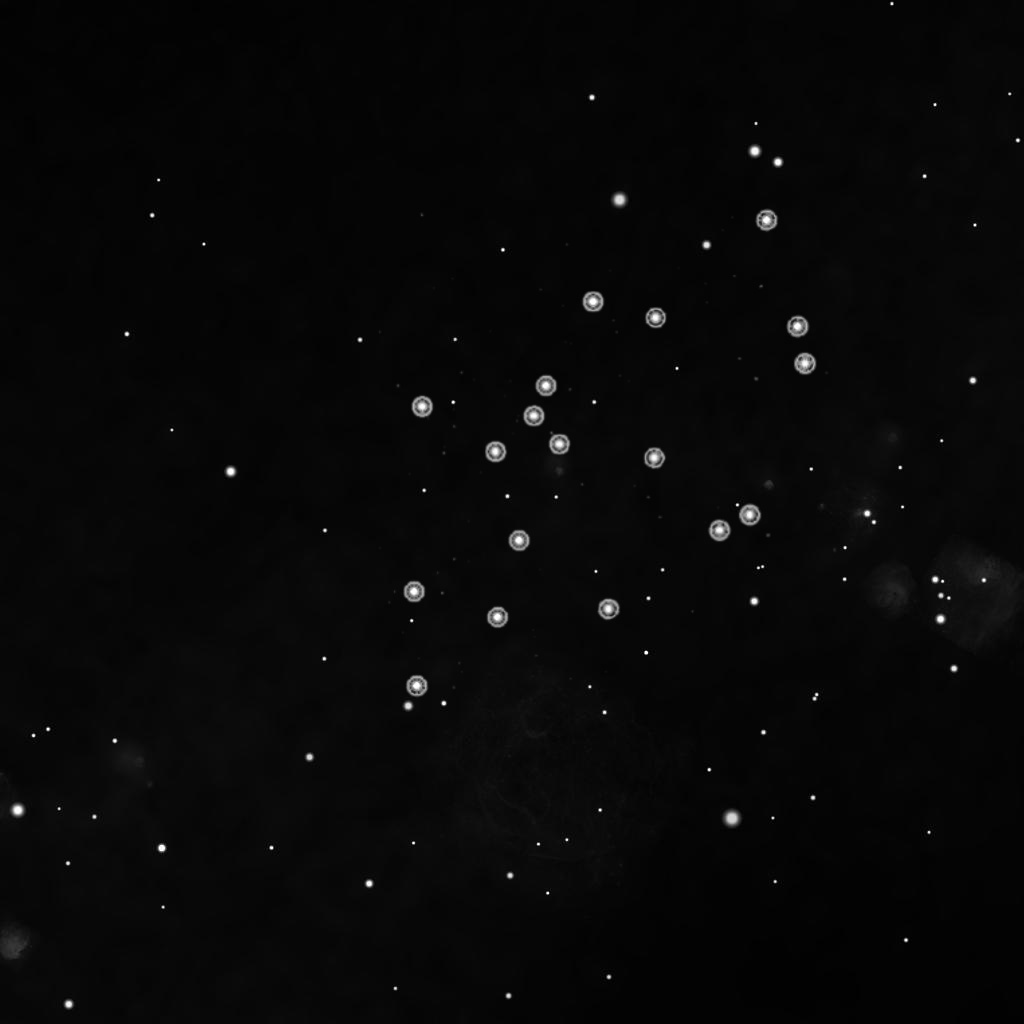canis_major: (479, 287, 669, 466)
